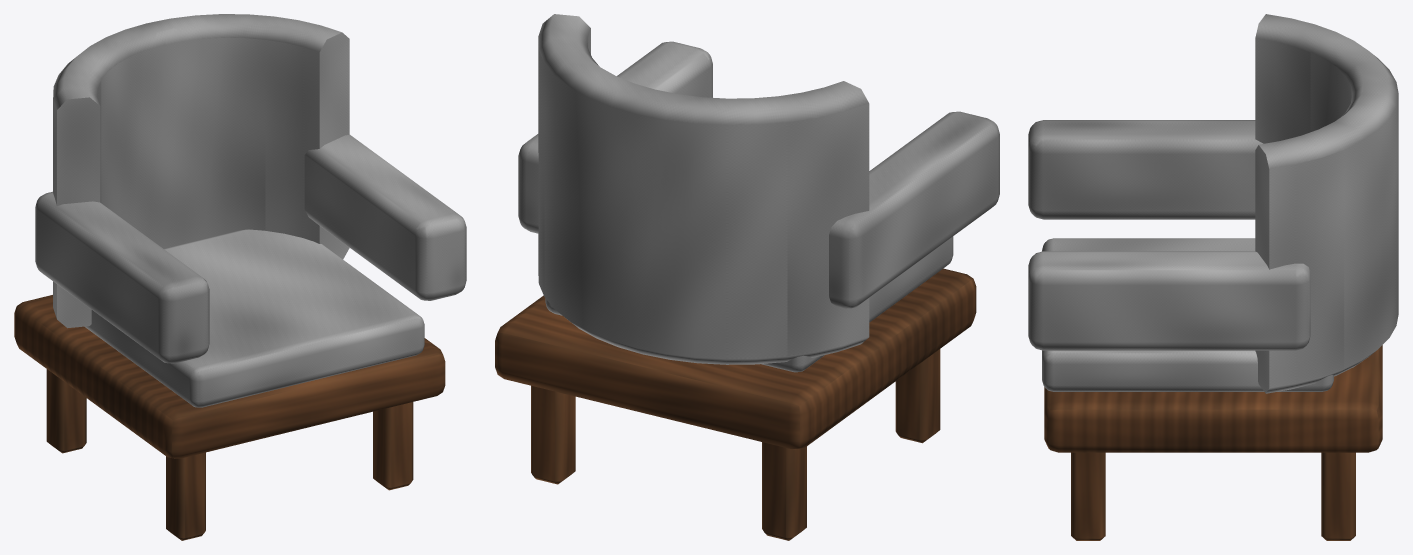
The model's file is Furn_ArmChair_Round.fbx.
3 views of the same model, side by side, from view 1: azimuth 30°, elevation 25°; view 2: azimuth 150°, elevation 25°; view 3: azimuth 270°, elevation 25° (orthographic). The views are drawn at different scales.
Visible parts, largest first — view 1: Furn_ArmChair_Round; view 2: Furn_ArmChair_Round; view 3: Furn_ArmChair_Round.
Part boxes in pixels (bbox=[...]): Furn_ArmChair_Round: bbox=[14, 14, 466, 540]; Furn_ArmChair_Round: bbox=[495, 14, 999, 540]; Furn_ArmChair_Round: bbox=[1028, 14, 1398, 540].
Size of the model in its own units: 0.8 by 0.95 by 0.8.
2 materials, 2 textured.
